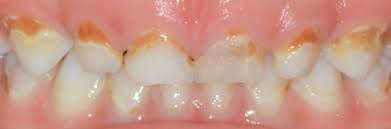Caries: (3, 14, 193, 62), (283, 30, 314, 59)
